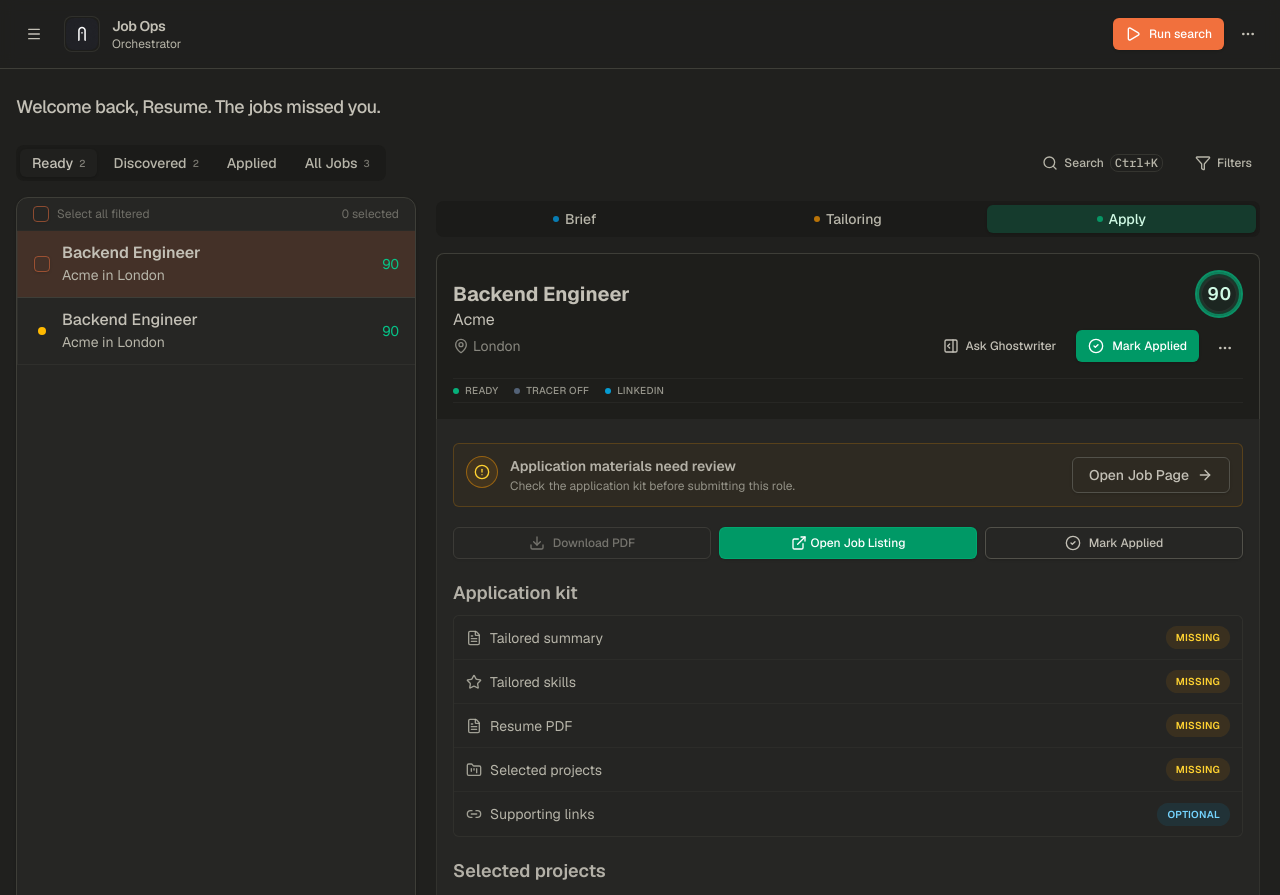
Test: OrchestratorPage › swaps the dashboard for the full-screen search composer
Click the button "Run search".
click(1168, 34)  # box [1113,18,1224,50]
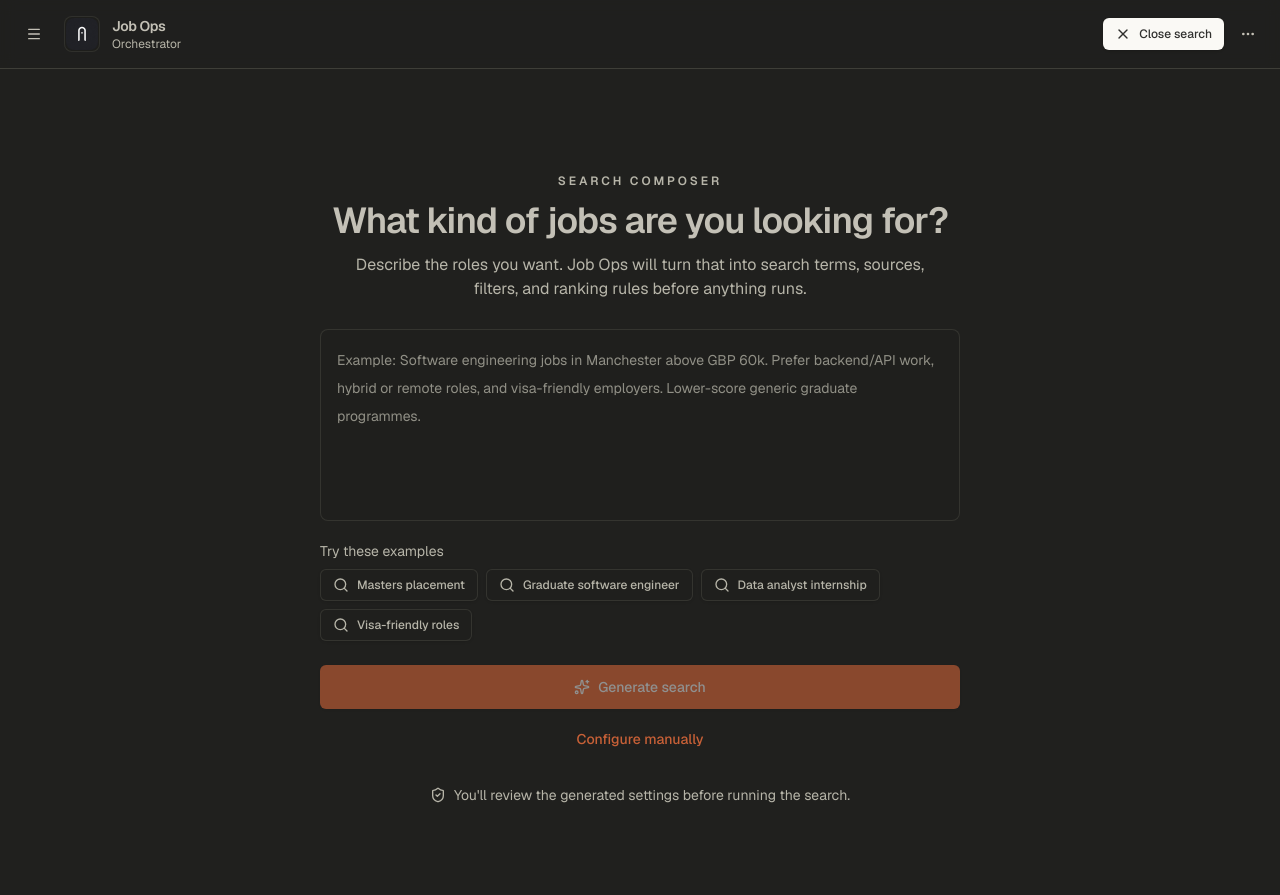
Now the heading "What kind of jobs are you looking for?" is shown, box [320,201,960,241]
Now the button "Close search" is shown, box [1103,18,1224,50]
Now the button "Run search" is gone
